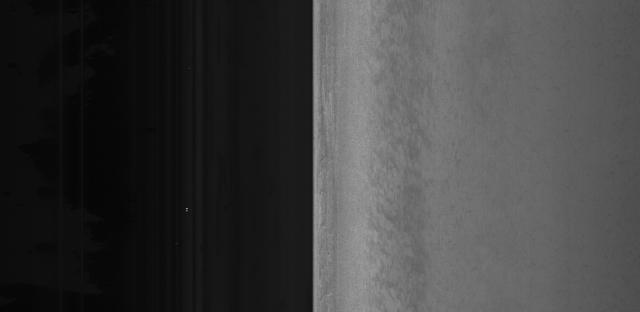silk_spot: (355, 89, 430, 205)
